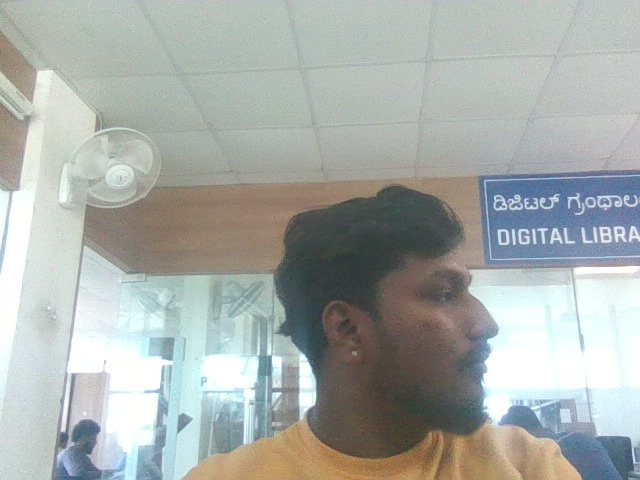real: (348, 191, 501, 408)
